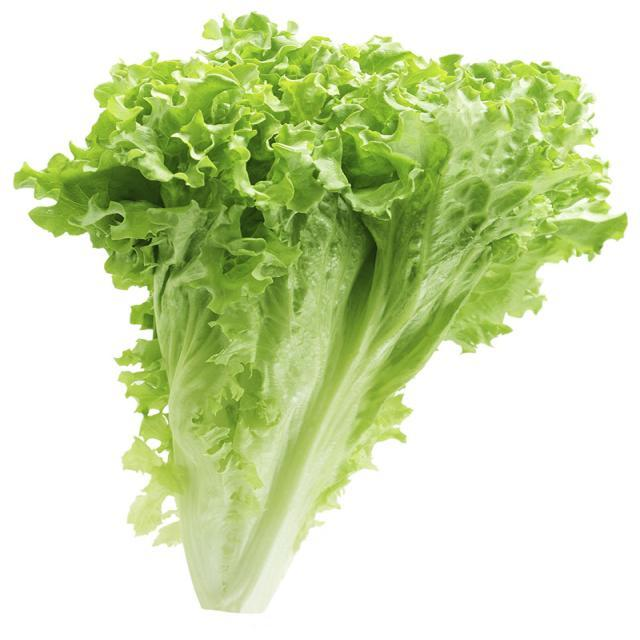Lettuce-Ready-to-Harvest: (15, 14, 625, 611)
